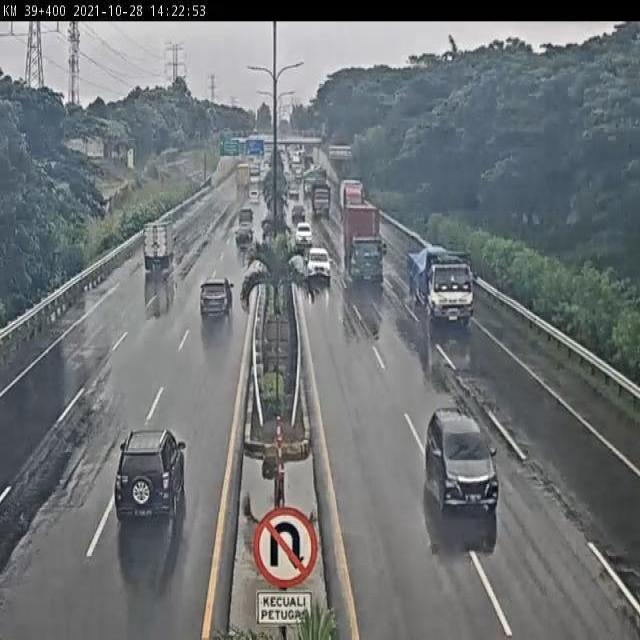car: (113, 429, 187, 520)
truck-l-: (405, 244, 480, 328)
truck-m-: (142, 221, 178, 272)
truck-xl-: (342, 204, 388, 288)
